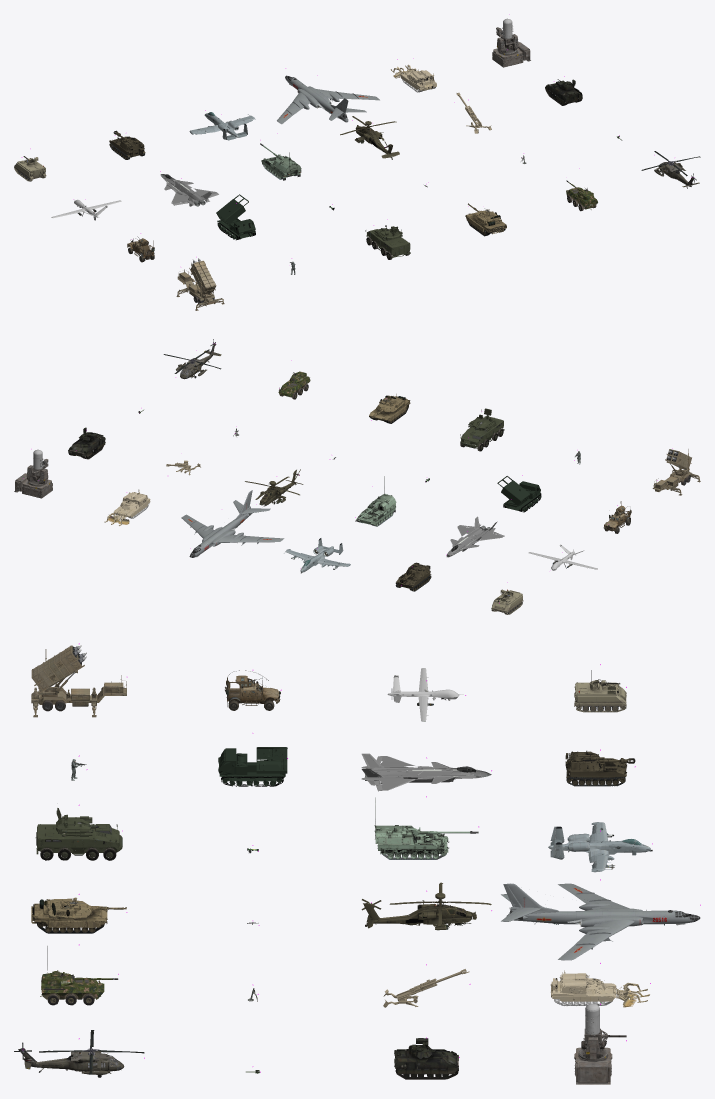
The model's file is all_units.glb.
3 renders of one model, top to bottom at view 1: azimuth 30°, elevation 25°; view 2: azimuth 150°, elevation 25°; view 3: azimuth 270°, elevation 25°, orthographic. The views are drawn at different scales.
Visible parts, largest first — view 1: bomber, sam, cram, mlrs, spaag, fighter, attacker, tank, heli, heavyarty, breacher, ifv (+5 smaller); view 2: bomber, spaag, cram, mlrs, sam, fighter, breacher, heavyarty, attacker, tank, ifv, arty (+5 smaller); view 3: bomber, sam, spaag, fighter, mlrs, tank, heavyarty, attacker, breacher, cram, heli, ifv (+6 smaller).
Boxes of the visible parts, bbox=[...] form: bomber: bbox=[277, 75, 379, 124]; sam: bbox=[176, 258, 224, 310]; cram: bbox=[492, 18, 530, 67]; mlrs: bbox=[216, 194, 255, 240]; spaag: bbox=[365, 225, 410, 259]; fighter: bbox=[160, 174, 218, 206]; attacker: bbox=[189, 112, 255, 140]; tank: bbox=[465, 203, 506, 236]; heli: bbox=[340, 116, 399, 159]; heavyarty: bbox=[260, 143, 301, 180]; breacher: bbox=[390, 64, 436, 92]; ifv: bbox=[545, 79, 582, 105]; bomber: bbox=[181, 490, 284, 557]; spaag: bbox=[460, 408, 504, 451]; cram: bbox=[14, 449, 52, 498]; mlrs: bbox=[497, 476, 541, 512]; sam: bbox=[652, 449, 700, 495]; fighter: bbox=[446, 516, 504, 557]; breacher: bbox=[104, 489, 150, 525]; heavyarty: bbox=[355, 476, 396, 526]; attacker: bbox=[284, 538, 350, 573]; tank: bbox=[369, 394, 410, 423]; ifv: bbox=[68, 427, 105, 459]; arty: bbox=[395, 562, 431, 591]; bomber: bbox=[501, 883, 700, 960]; sam: bbox=[31, 645, 126, 717]; spaag: bbox=[35, 808, 122, 860]; fighter: bbox=[361, 753, 491, 791]; mlrs: bbox=[218, 747, 287, 786]; tank: bbox=[31, 897, 126, 933]; heavyarty: bbox=[374, 797, 478, 859]; attacker: bbox=[548, 822, 652, 872]; breacher: bbox=[550, 970, 649, 1007]; cram: bbox=[574, 1003, 626, 1084]; heli: bbox=[361, 882, 491, 930]; ifv: bbox=[394, 1038, 458, 1079].
Size of the model in its own units: 227 by 17.81 by 158.
Materials: 199 (175 with a texture image).
